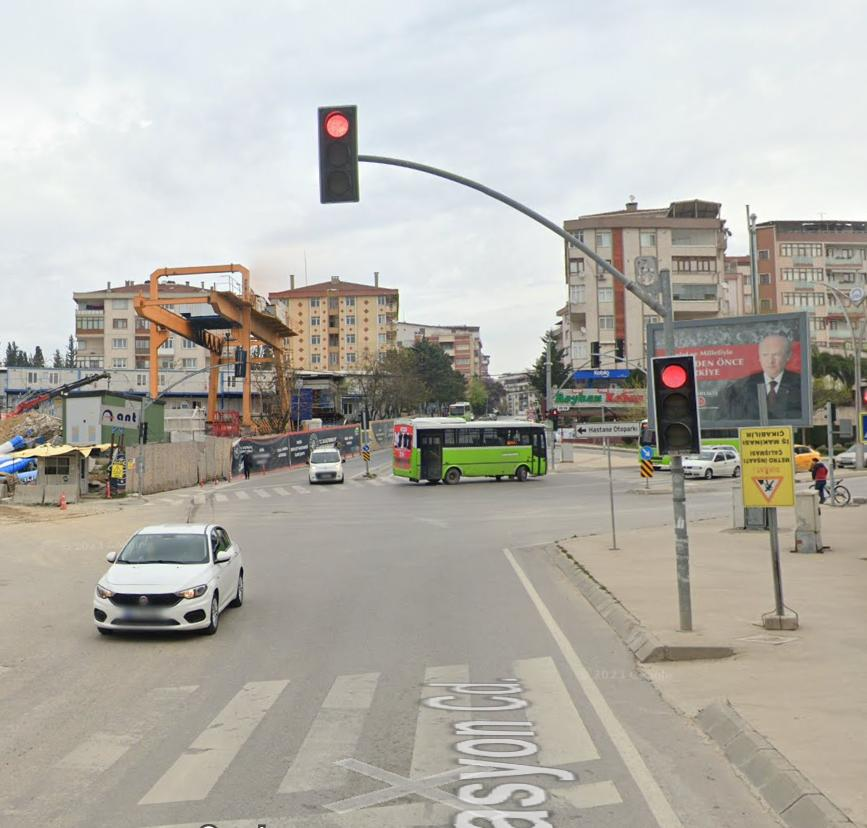redlight: (654, 358, 700, 452), (319, 104, 359, 199)
